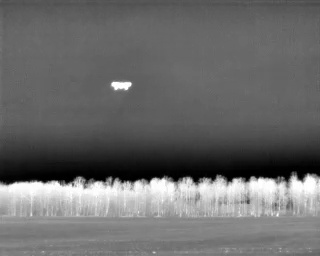DRONE: (108, 76, 135, 95)
